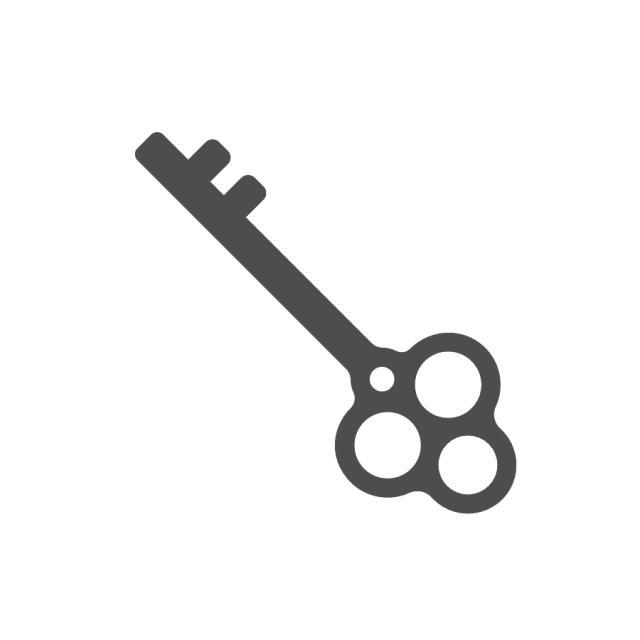key: (131, 129, 523, 522)
